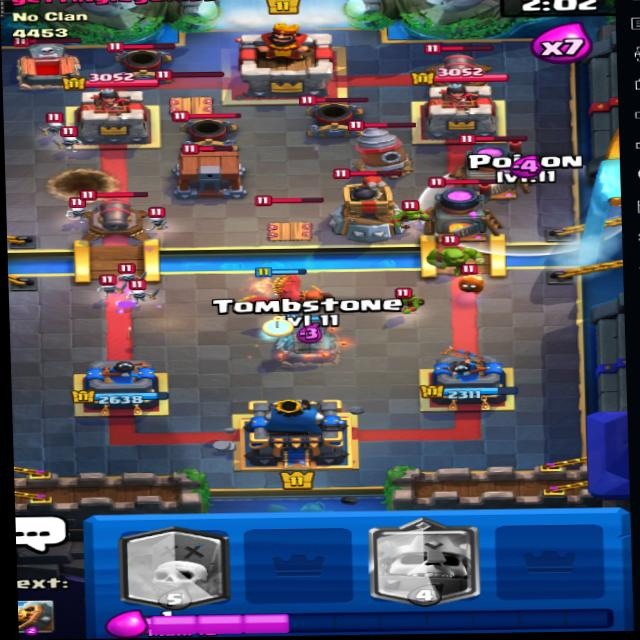Bombtower: (330, 162, 419, 241)
Cannon: (420, 40, 502, 89), (75, 189, 145, 239)
Firespirit: (458, 268, 500, 295)
Furnace: (449, 128, 544, 205), (421, 172, 509, 242)
Goblin: (394, 280, 429, 312), (392, 197, 427, 222)
Goblinbrawler: (426, 237, 488, 274)
Goblincage: (172, 141, 254, 194)
Goblindrill: (336, 118, 419, 179)
Mortar: (107, 29, 184, 82), (297, 91, 368, 141), (171, 110, 242, 146)
Skeleton: (136, 207, 172, 232), (124, 278, 158, 304), (109, 261, 141, 285), (53, 200, 91, 220), (90, 277, 126, 297), (41, 113, 65, 134), (57, 130, 84, 148)
Teslahidden: (147, 65, 230, 120), (252, 193, 327, 243)
Tombstone: (3, 25, 96, 89)
